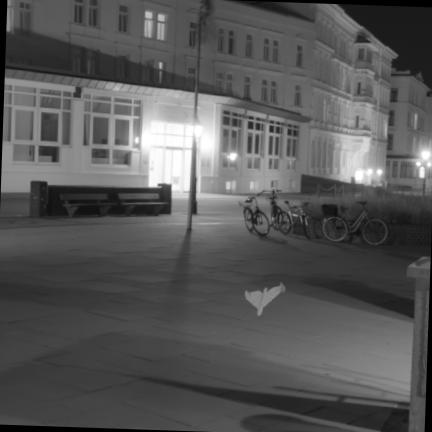Shahed: (246, 284, 284, 315)
